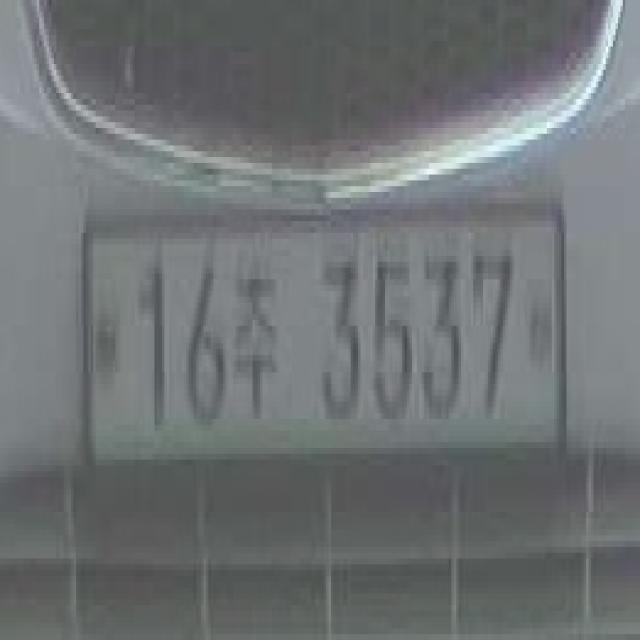1: (132, 250, 172, 442)
3: (312, 244, 366, 448), (414, 244, 464, 448)
5: (368, 245, 414, 442)
6: (179, 256, 228, 442)
7: (466, 239, 522, 442)
ju: (228, 256, 282, 442)
license_plate: (76, 186, 574, 495)
